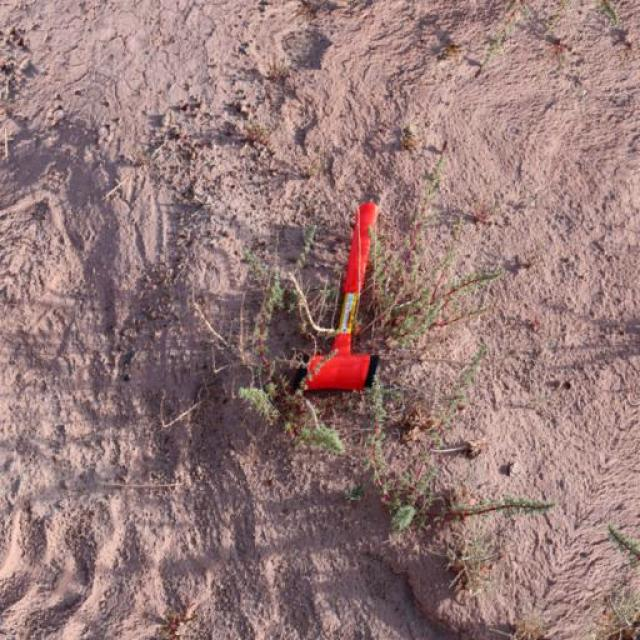mallet: (290, 200, 381, 394)
